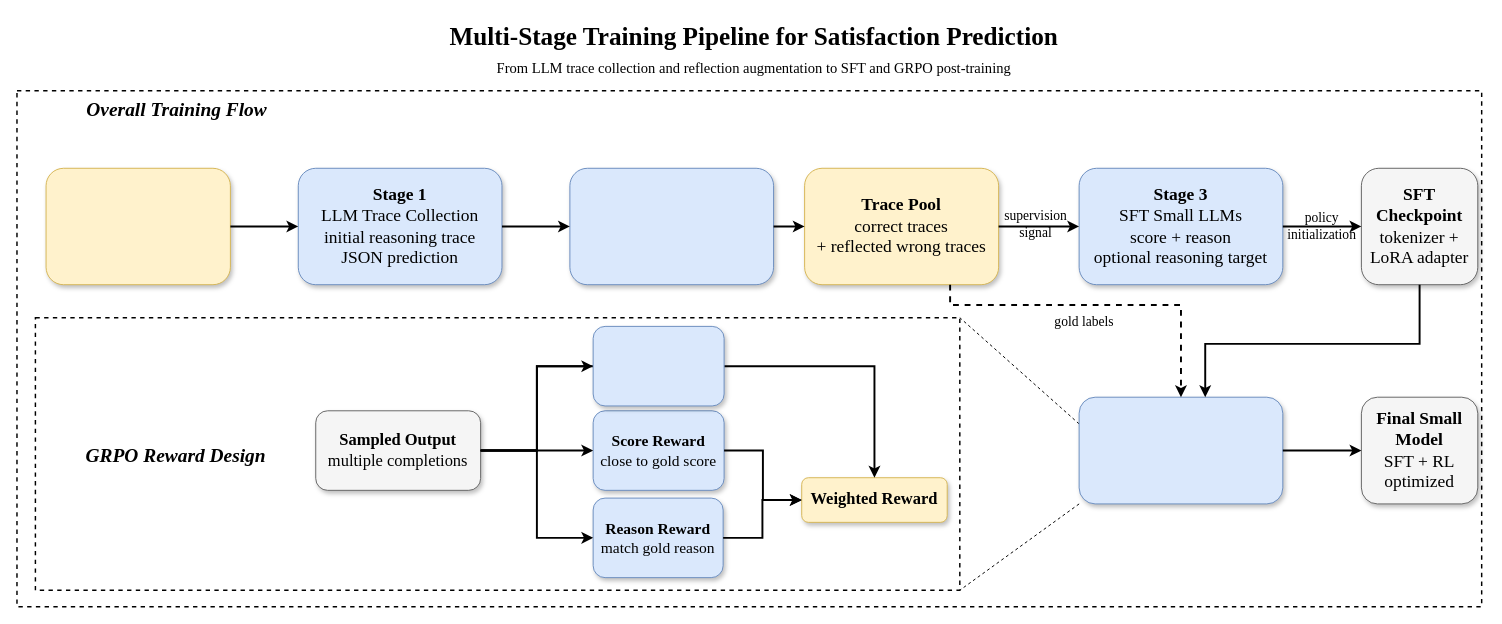
The diagram is 1502 pixels wide and 624 high, and some of its shapes have lost their labels. The centre of each missing label's shape, as x and y in pixels:
"Format Reward JSON valid label legal" goes at point 659,367.
"Raw Dialogue Data user profile task context dialogue history satisfaction labels" goes at point 138,227.
"Stage 2 Reflection Augmentation wrong first attempt reflection trace" goes at point 672,227.
"Stage 4 GRPO Post-Training verifiable reward policy optimization" goes at point 1181,451.
